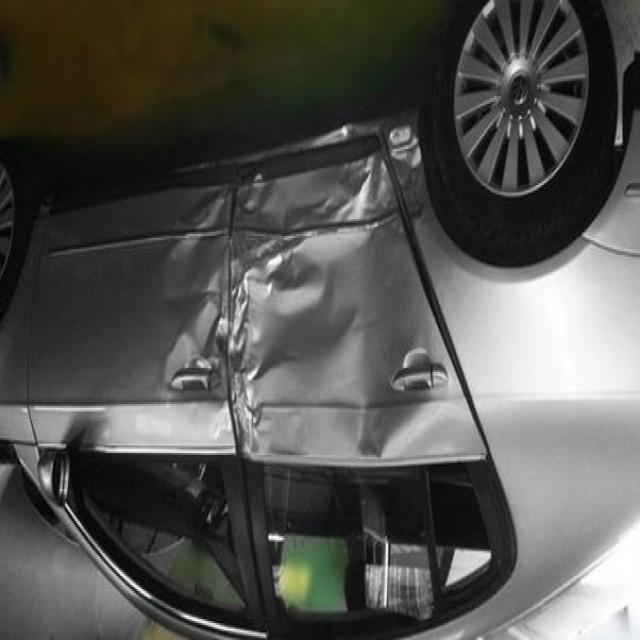dent: (150, 97, 416, 469)
